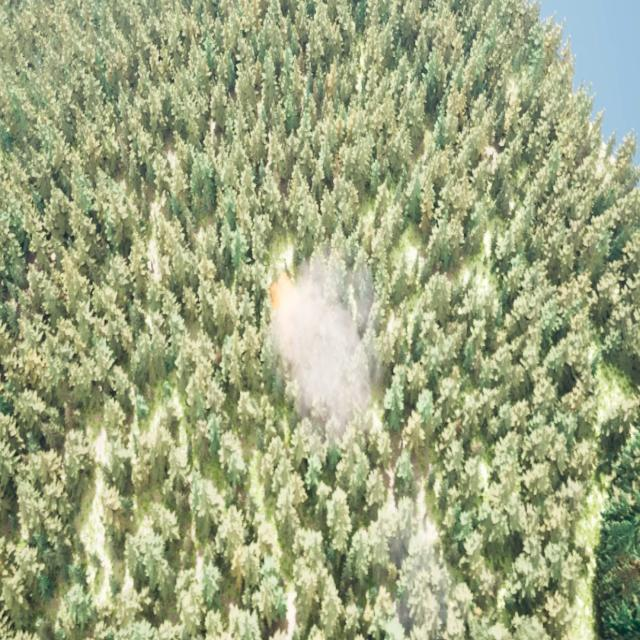smoke: (267, 255, 374, 448)
